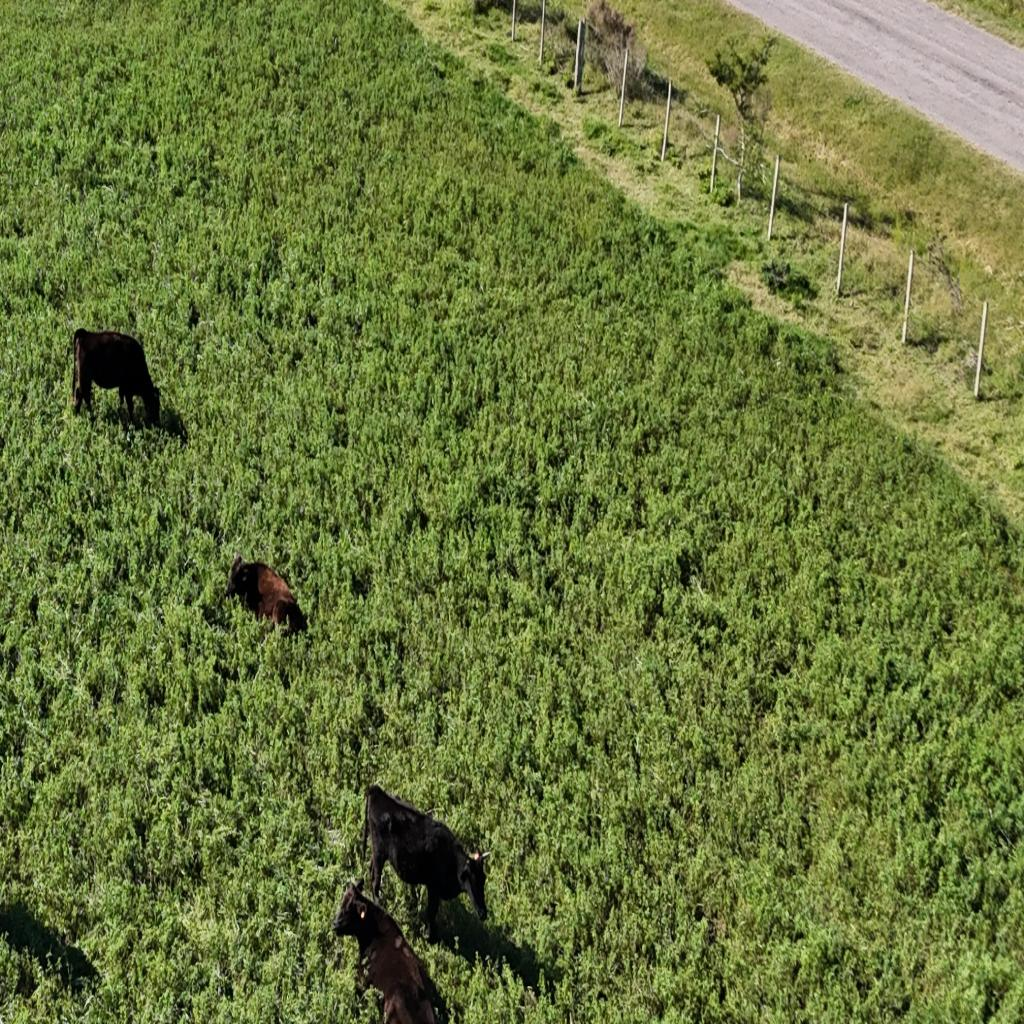cow: (360, 785, 492, 939), (328, 878, 442, 1022), (72, 328, 163, 429), (226, 554, 308, 636)
